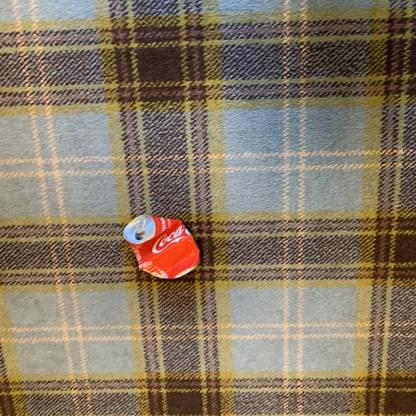trash: (121, 211, 200, 281)
